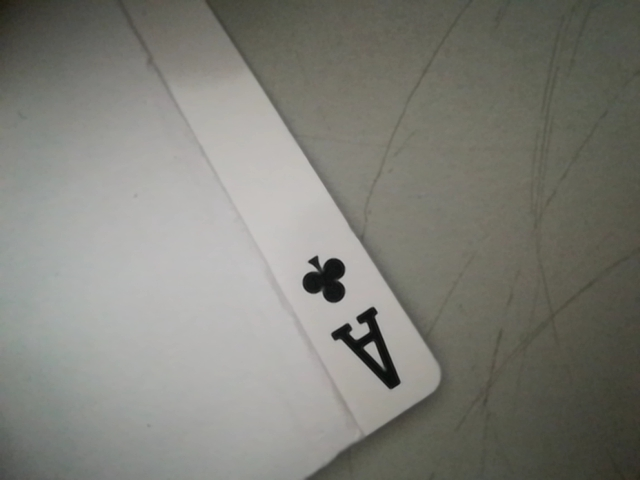mh a: (287, 244, 422, 405)
